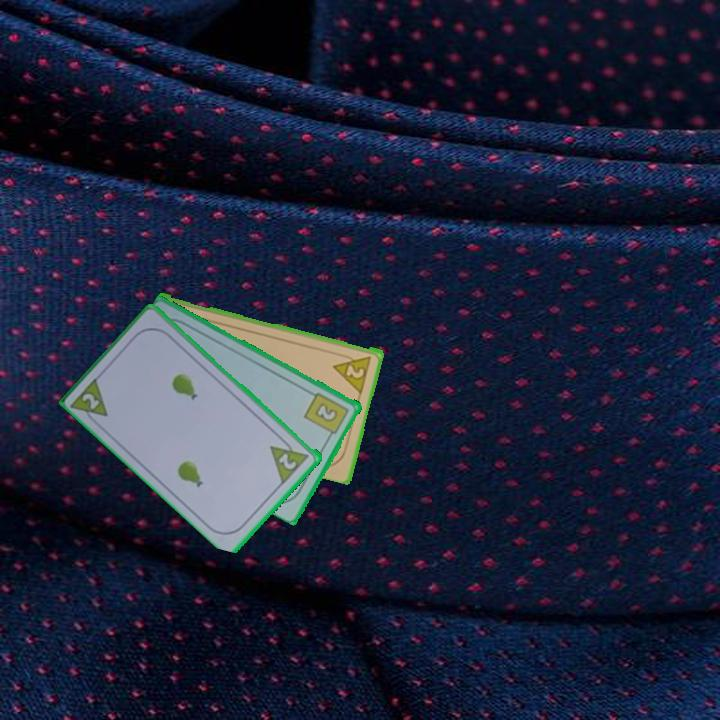2b: (301, 389, 352, 442)
2p: (267, 433, 313, 486), (330, 350, 375, 395), (79, 389, 103, 412)
